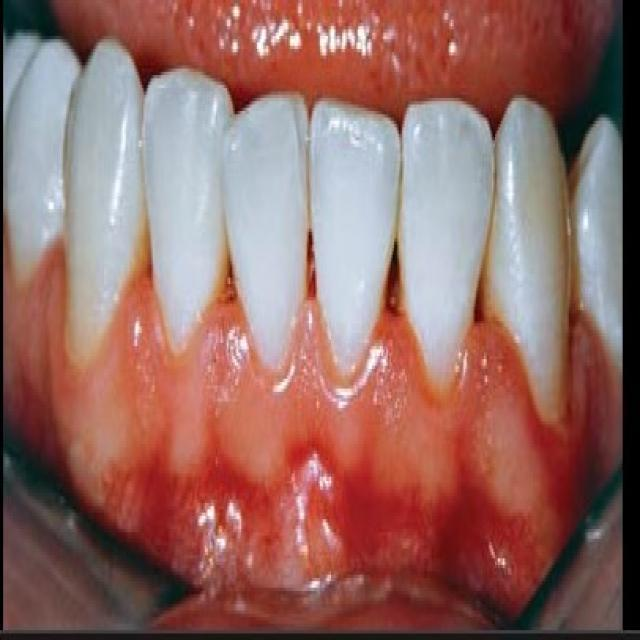redness: (119, 279, 173, 371), (367, 314, 422, 404)
swelling: (458, 314, 532, 410)
